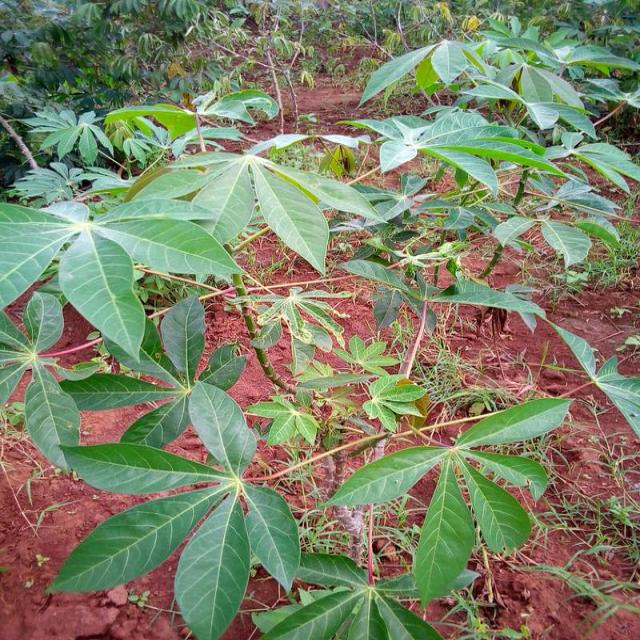cassava leaf: (2, 14, 638, 637), (59, 225, 148, 367), (174, 488, 252, 639)
